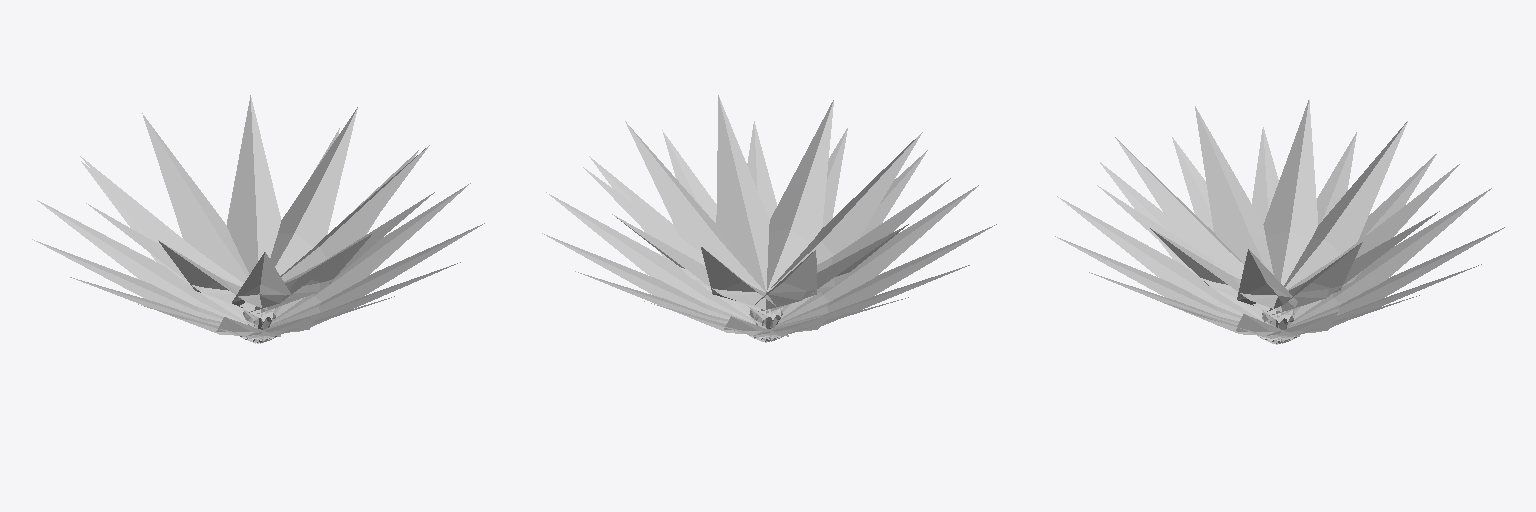
The model's file is lotus_outer.obj.
3 renders of one model, left to right at view 1: azimuth 30°, elevation 25°; view 2: azimuth 150°, elevation 25°; view 3: azimuth 270°, elevation 25°, orthographic.
Visible parts, largest first — view 1: Obj_000002; view 2: Obj_000002; view 3: Obj_000002.
Boxes of the visible parts, <box> form: Obj_000002: <box>32,95,484,343</box>; Obj_000002: <box>542,95,996,342</box>; Obj_000002: <box>1055,100,1504,344</box>.
Bounding box in the file's own units: 3.5 × 1.44 × 3.5.